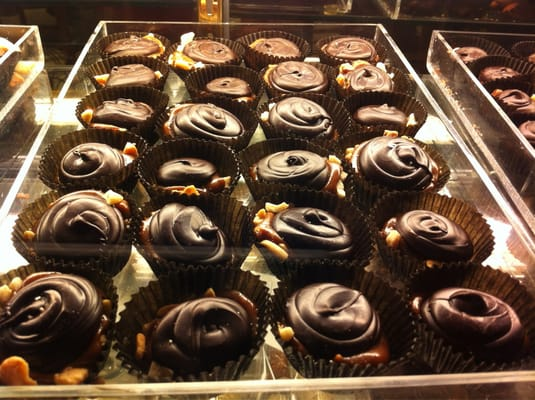salad: (354, 135, 447, 194), (167, 102, 248, 147), (59, 142, 126, 191), (182, 39, 240, 64), (493, 88, 533, 114)
